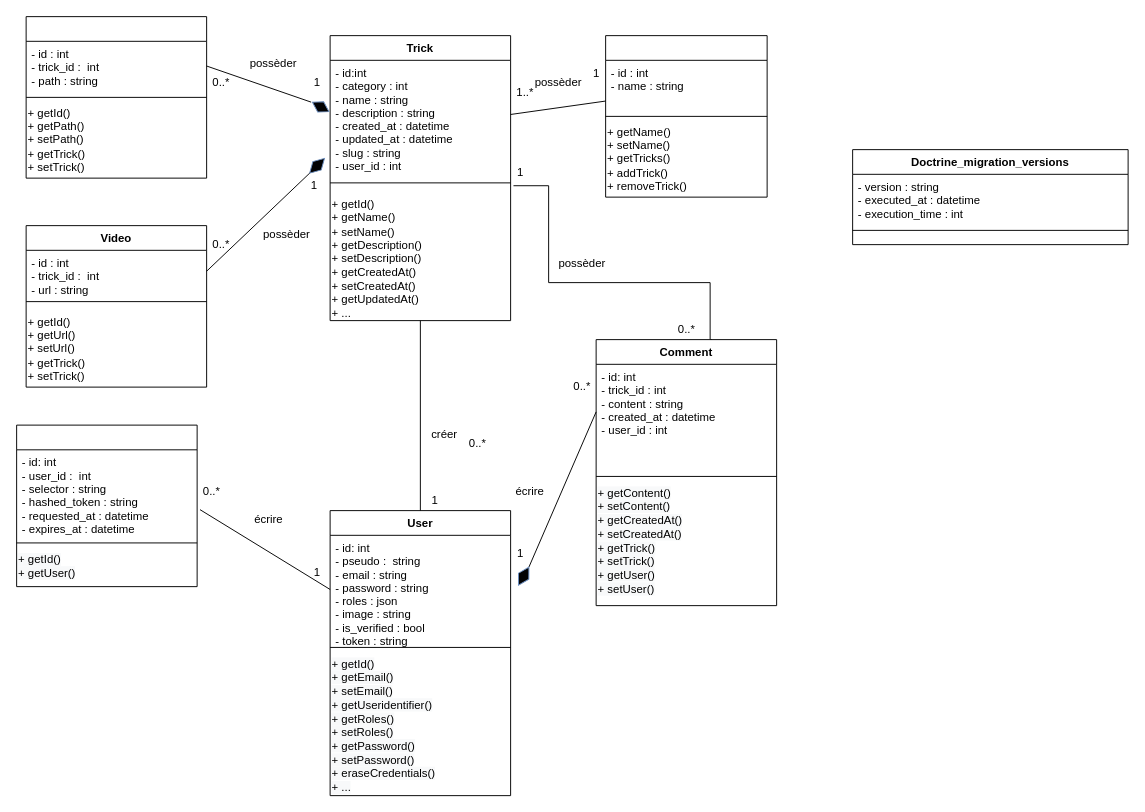
This 1145x812 diagram has some shape labels left out. Here are the shapes that lost their labels. From the top down, the box of each, then its label:
(25, 16, 207, 178): Image
(605, 35, 767, 197): Category
(16, 424, 197, 587): reset_password_request
